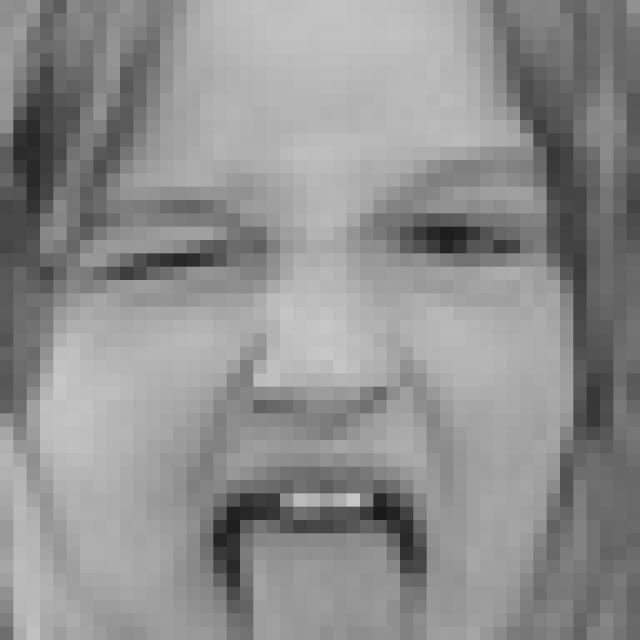disgust: (62, 145, 540, 640)
